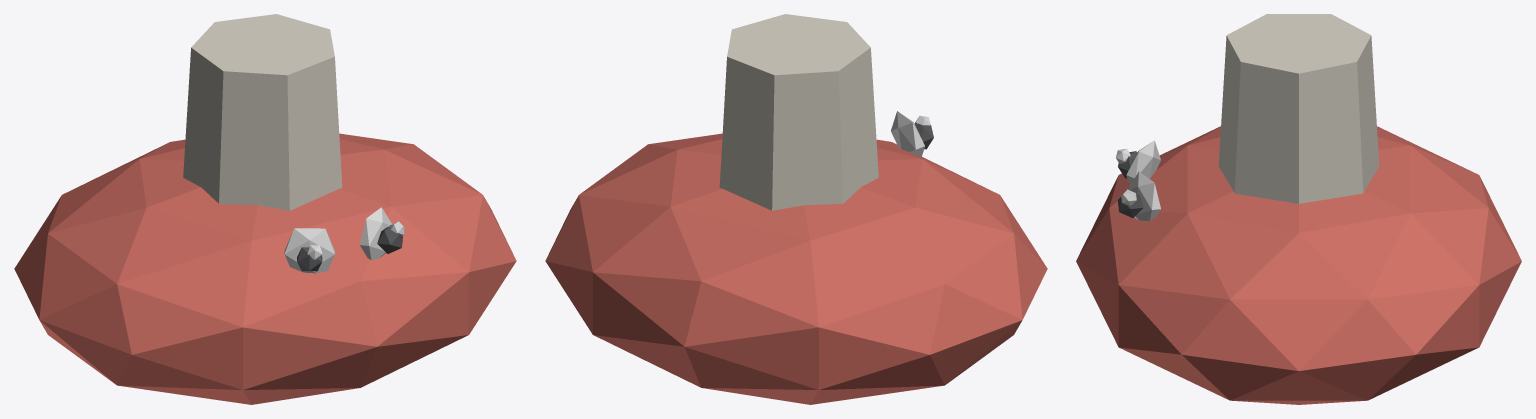
File: auricularia-polytricha.glb
The picture shows the model from 3 angles, left to right: view 1: azimuth 30°, elevation 25°; view 2: azimuth 150°, elevation 25°; view 3: azimuth 270°, elevation 25°; orthographic projection.
Parts seen in each view (by area): view 1: blob, stalk, pface-eye-r, pface-eye-l, pface-pupil-l; view 2: blob, stalk, pface-eye-r; view 3: blob, stalk, pface-eye-l, pface-eye-r.
Boxes of the visible parts, bbox=[...] form: blob: bbox=[14, 133, 516, 404]; stalk: bbox=[183, 14, 342, 210]; pface-eye-r: bbox=[284, 228, 335, 273]; pface-eye-l: bbox=[360, 207, 391, 260]; pface-pupil-l: bbox=[377, 226, 402, 253]; blob: bbox=[545, 133, 1047, 404]; stalk: bbox=[719, 14, 878, 210]; pface-eye-r: bbox=[891, 111, 924, 157]; blob: bbox=[1076, 126, 1521, 404]; stalk: bbox=[1218, 14, 1379, 203]; pface-eye-l: bbox=[1128, 171, 1160, 220]; pface-eye-r: bbox=[1126, 140, 1160, 185].
Bounding box in the file's own units: 0.28 × 0.19 × 0.24.
